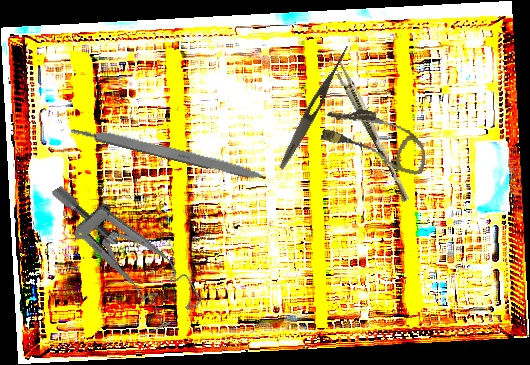Cannula: (317, 101, 434, 177)
Dressing Forceps: (275, 42, 353, 172)
Scalpel Handle: (70, 121, 268, 183)
Speculum: (48, 153, 206, 343)
Tissue Forceps: (327, 55, 415, 203)
